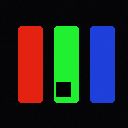1 square: (56, 82, 70, 96)
